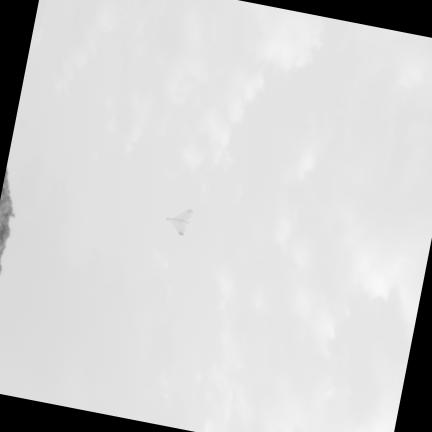Shahed: (164, 208, 193, 237)
